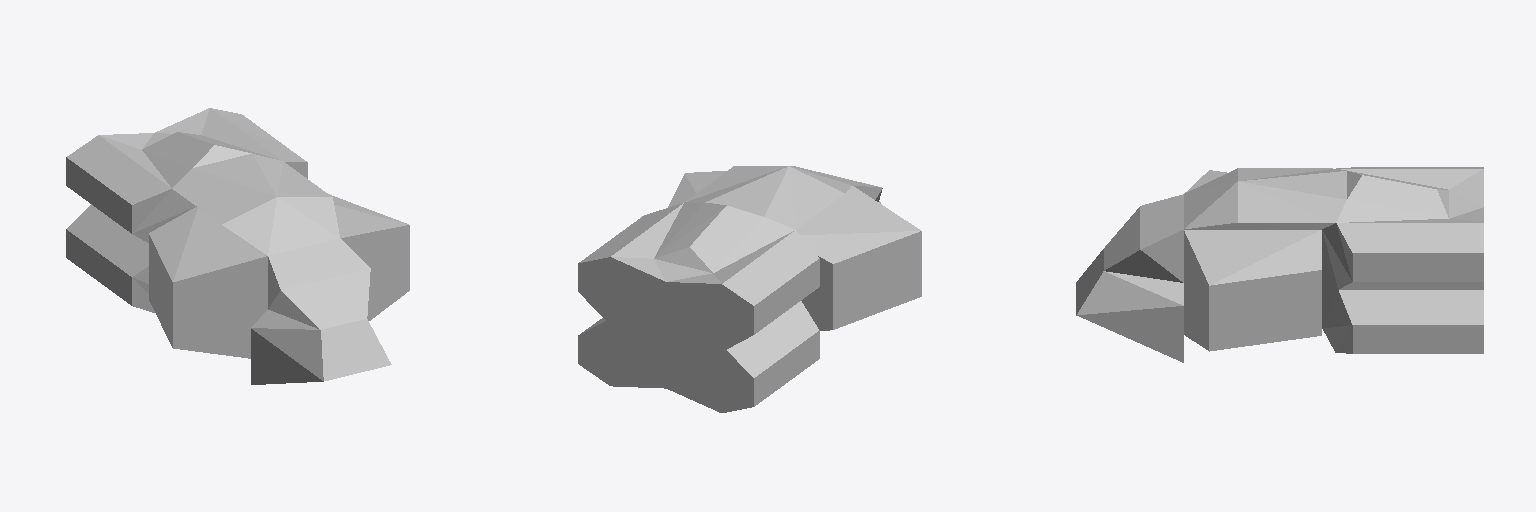
3 renders of one model, left to right at view 1: azimuth 30°, elevation 25°; view 2: azimuth 150°, elevation 25°; view 3: azimuth 270°, elevation 25°, orthographic.
Parts seen in each view (by area): view 1: Tur_MissileCorvette, Tur_MissileCorvette_Engine; view 2: Tur_MissileCorvette, Tur_MissileCorvette_Engine; view 3: Tur_MissileCorvette, Tur_MissileCorvette_Engine.
Boxes of the visible parts, box(x1,y1,x2,y2) form: Tur_MissileCorvette: box(66, 108, 409, 384); Tur_MissileCorvette_Engine: box(321, 319, 391, 380); Tur_MissileCorvette: box(579, 166, 921, 406); Tur_MissileCorvette_Engine: box(578, 257, 753, 412); Tur_MissileCorvette: box(1076, 167, 1483, 362); Tur_MissileCorvette_Engine: box(1076, 249, 1103, 314).
Size of the model in its own units: 27.38 by 17.85 by 40.73.